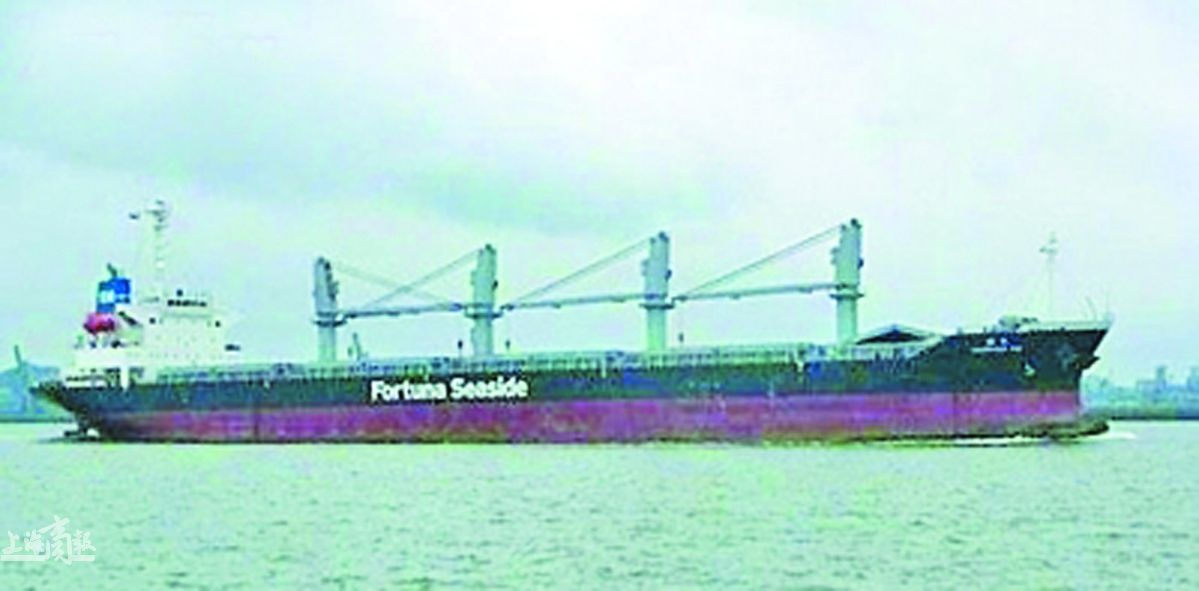Cargoship: (25, 199, 1119, 454)
